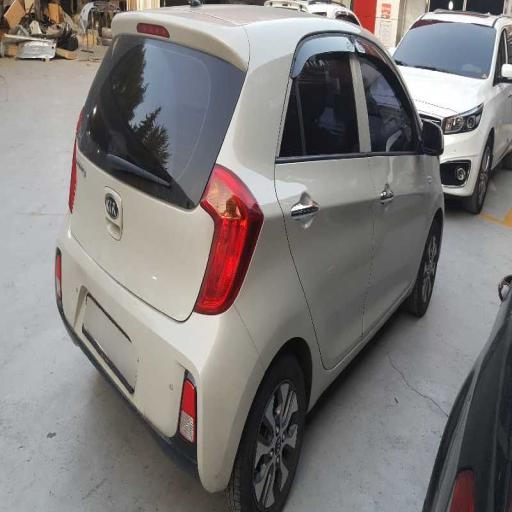scratch: (64, 73, 132, 168)
